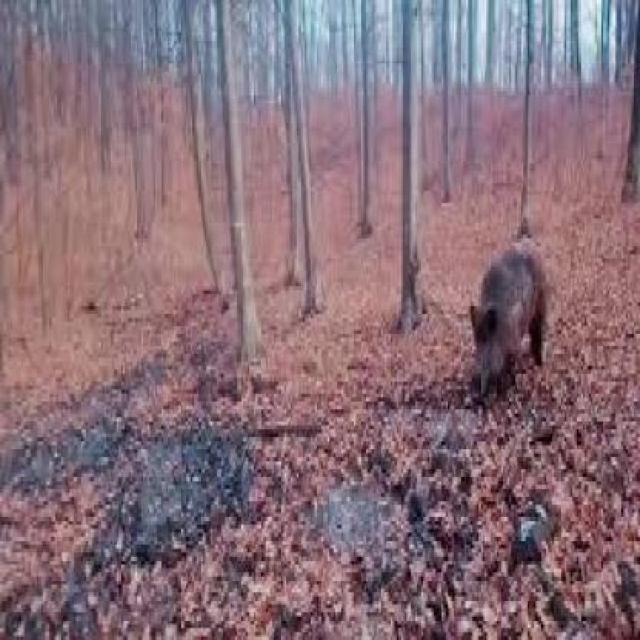wildboar: (466, 233, 552, 412)
